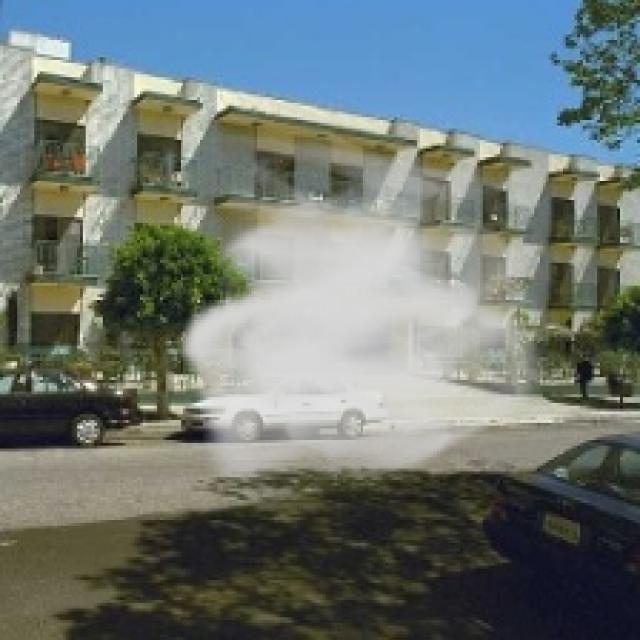Smoke: (177, 126, 557, 494)
